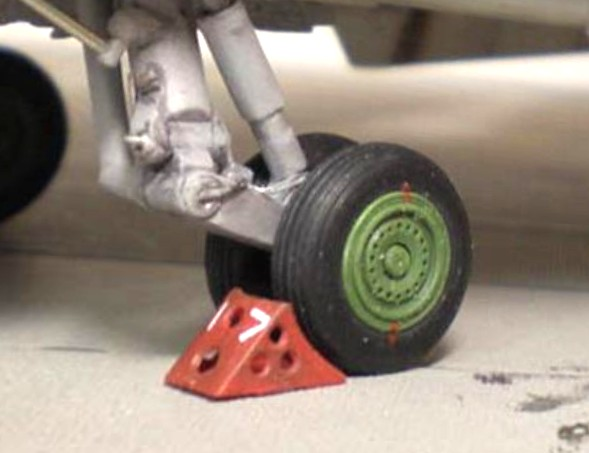chock: (159, 283, 355, 401)
wheel: (264, 134, 480, 376), (0, 33, 83, 242)
